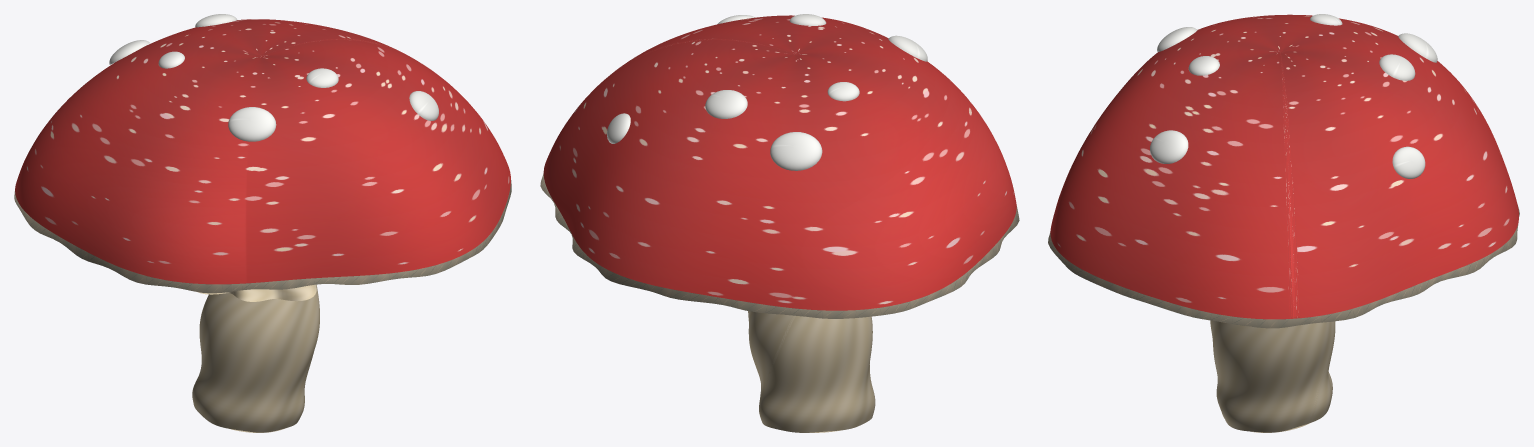
The model's file is cartoon_mushroom_highpoly.obj.
3 views of the same model, side by side, from view 1: azimuth 30°, elevation 25°; view 2: azimuth 150°, elevation 25°; view 3: azimuth 270°, elevation 25° (orthographic). The views are drawn at different scales.
Parts seen in each view (by area): view 1: cap_outer, stem, cap_bridge, spot_3, ring, spot_5, spot_0; view 2: cap_outer, stem, cap_bridge, spot_4, spot_2, spot_6, spot_1, spot_3; view 3: cap_outer, stem, cap_bridge, spot_5, spot_6, spot_2, spot_4, spot_0, spot_3.
Part boxes in pixels (bbox=[...]): cap_outer: bbox=[15, 19, 510, 284]; stem: bbox=[192, 285, 319, 432]; cap_bridge: bbox=[14, 180, 511, 293]; spot_3: bbox=[228, 107, 276, 141]; ring: bbox=[197, 284, 316, 301]; spot_5: bbox=[409, 91, 438, 120]; spot_0: bbox=[306, 68, 338, 87]; cap_outer: bbox=[543, 15, 1016, 310]; stem: bbox=[748, 311, 875, 432]; cap_bridge: bbox=[540, 173, 1019, 318]; spot_4: bbox=[770, 132, 822, 170]; spot_2: bbox=[705, 90, 747, 118]; spot_6: bbox=[607, 113, 630, 143]; spot_1: bbox=[827, 82, 859, 101]; spot_3: bbox=[888, 35, 927, 61]; cap_outer: bbox=[1050, 14, 1518, 319]; stem: bbox=[1210, 320, 1335, 432]; cap_bridge: bbox=[1048, 205, 1519, 328]; spot_5: bbox=[1150, 130, 1188, 163]; spot_6: bbox=[1392, 146, 1425, 178]; spot_2: bbox=[1379, 54, 1415, 80]; spot_4: bbox=[1398, 33, 1437, 62]; spot_0: bbox=[1188, 56, 1219, 75]; spot_3: bbox=[1157, 27, 1197, 51].
Size of the model in its own units: 5.8 by 4.69 by 5.36.
Materials: 5 (5 with a texture image).
